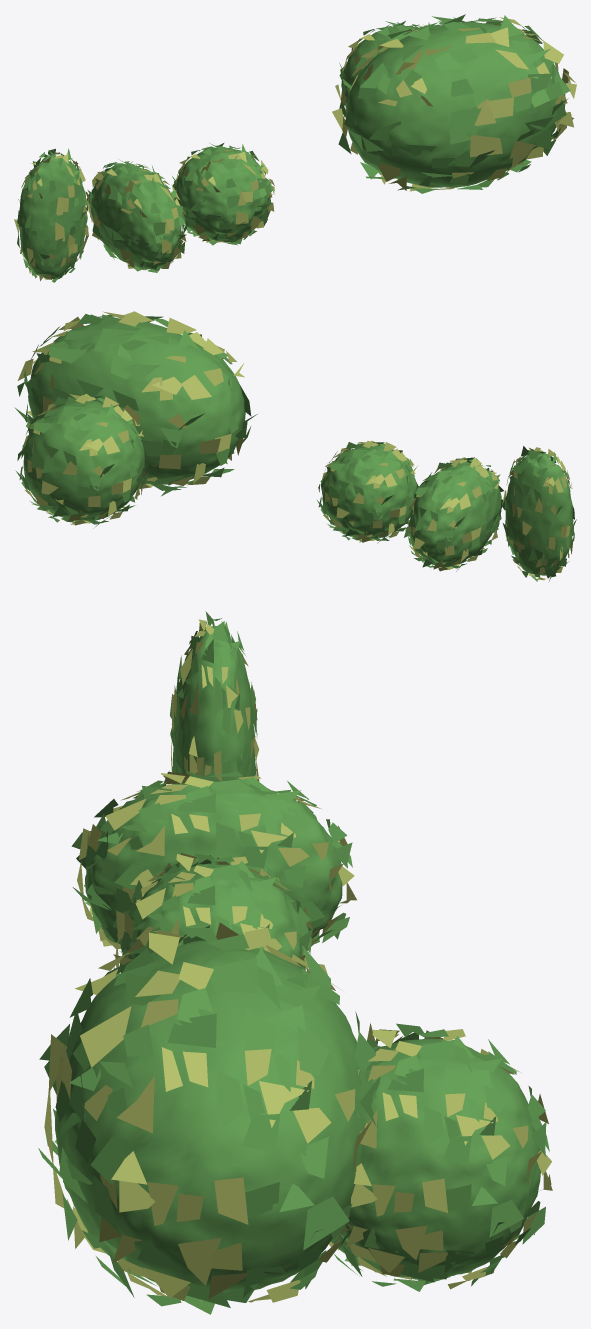
File: bush.fbx
3 renders of one model, top to bottom at view 1: azimuth 30°, elevation 25°; view 2: azimuth 150°, elevation 25°; view 3: azimuth 270°, elevation 25°, orthographic. The views are drawn at different scales.
Parts seen in each view (by area): view 1: bush.001, bush.002, bush, bush.003; view 2: bush.001, bush.002, bush, bush.003; view 3: bush.001, bush.002, bush, bush.003.
Part boxes in pixels (bbox=[...]): bush.001: bbox=[332, 14, 576, 193]; bush.002: bbox=[86, 159, 187, 272]; bush: bbox=[171, 142, 274, 245]; bush.003: bbox=[14, 148, 89, 282]; bush.001: bbox=[14, 311, 257, 528]; bush.002: bbox=[404, 457, 503, 571]; bush: bbox=[317, 440, 418, 543]; bush.003: bbox=[502, 446, 576, 581]; bush.001: bbox=[38, 922, 552, 1314]; bush.002: bbox=[71, 771, 356, 953]; bush: bbox=[112, 853, 313, 977]; bush.003: bbox=[169, 611, 259, 782].
Size of the model in its own units: 1969 by 561 by 803.
